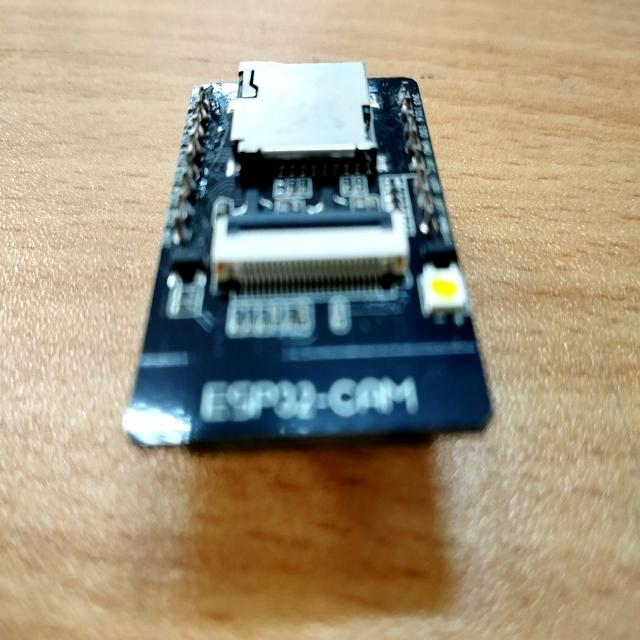ESP32-CAM: (102, 38, 522, 546)
